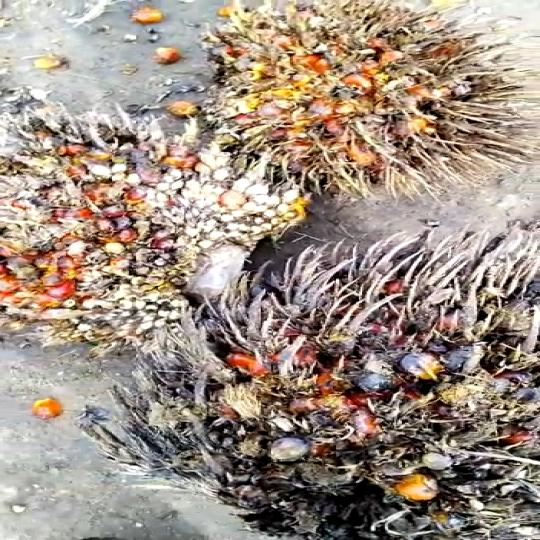terlalu masak: (74, 224, 540, 519), (198, 0, 540, 190)
